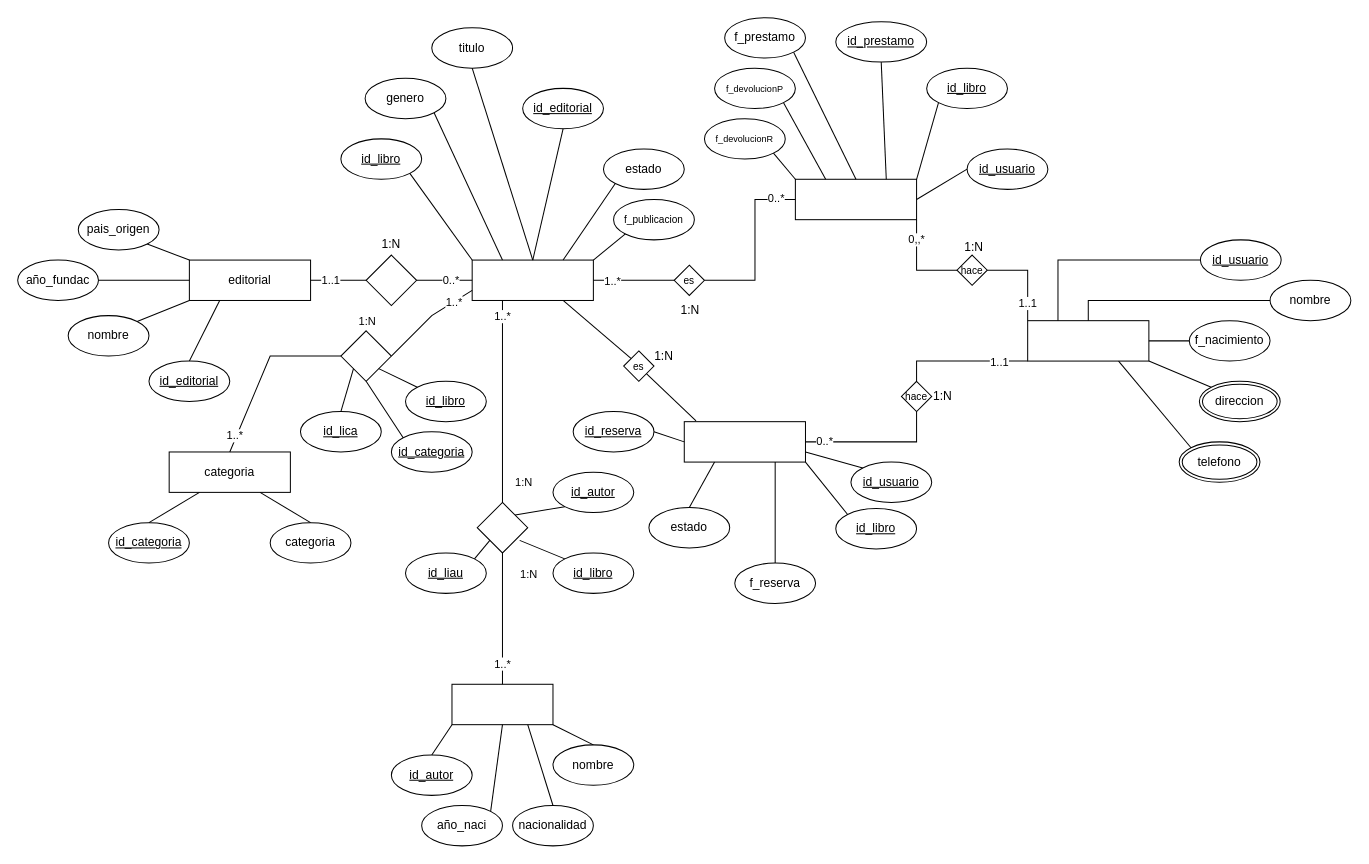
Image size: 1369x864. Some labels were removed from this diagram. Each missing label, with the centre of its shape:
autor: the point at 502,704
li_au: the point at 502,527
li_ca: the point at 365,355
libro: the point at 532,279
prestamo: the point at 855,199
publicado: the point at 391,280
reserva: the point at 744,441
usuario: the point at 1088,340
